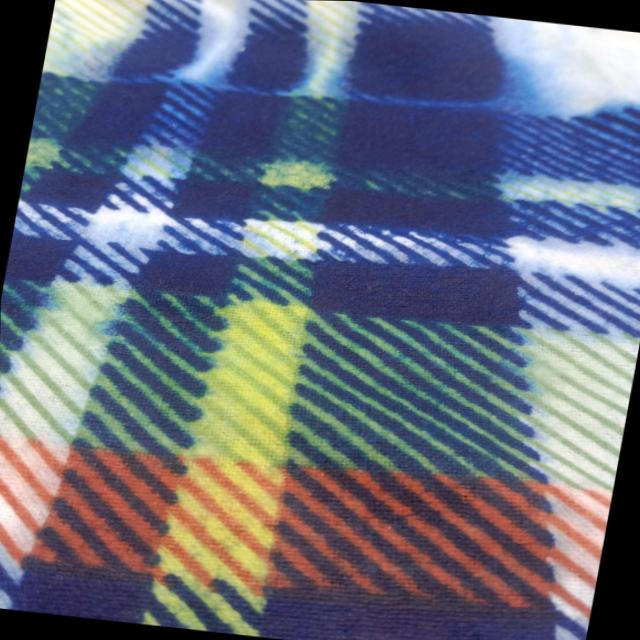baekra: (17, 0, 593, 343)
